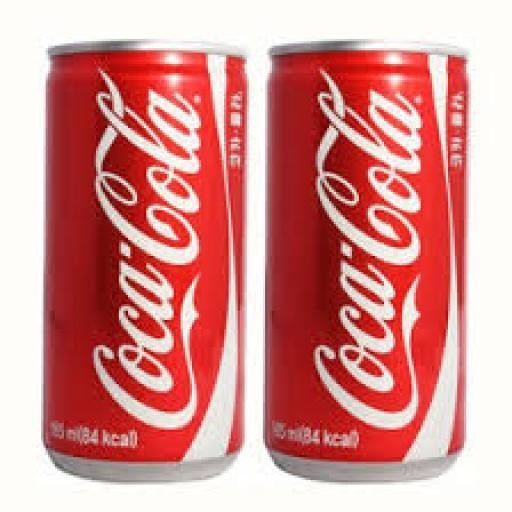Coca: (262, 30, 472, 488), (40, 32, 250, 488)
